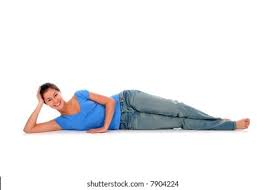no-mask: (36, 84, 67, 111)
